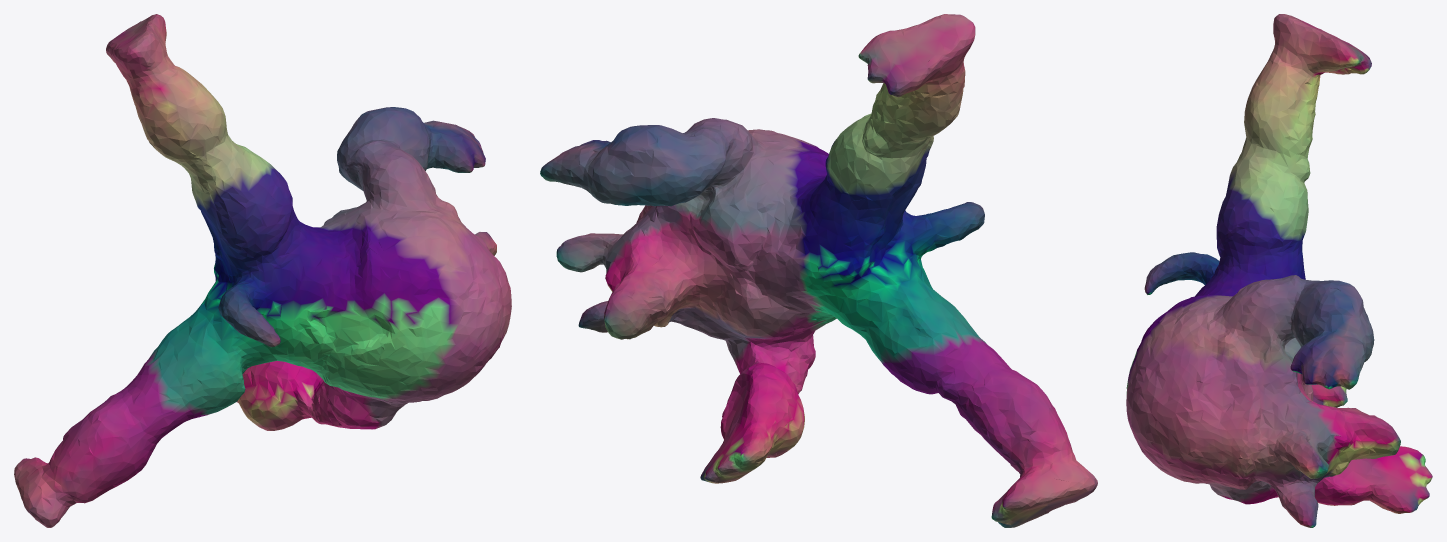
File: armadillo-14.off.obj
The picture shows the model from 3 angles, left to right: view 1: azimuth 30°, elevation 25°; view 2: azimuth 150°, elevation 25°; view 3: azimuth 270°, elevation 25°; orthographic projection. The views are drawn at different scales.
Bounding box in the file's own units: 1.43 × 1.3 × 0.8201.
